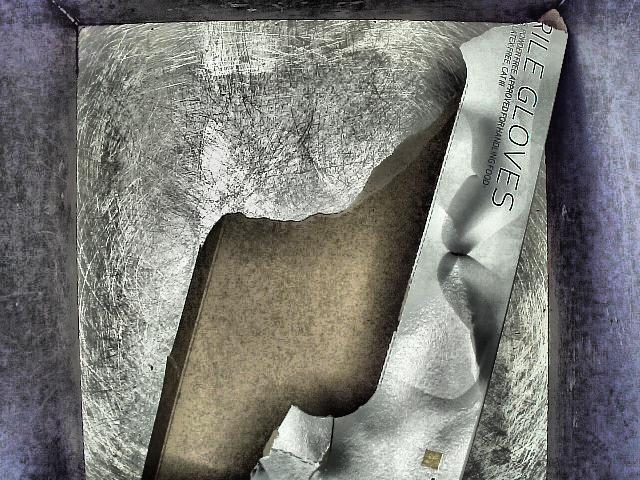Paper: (132, 19, 592, 480)
